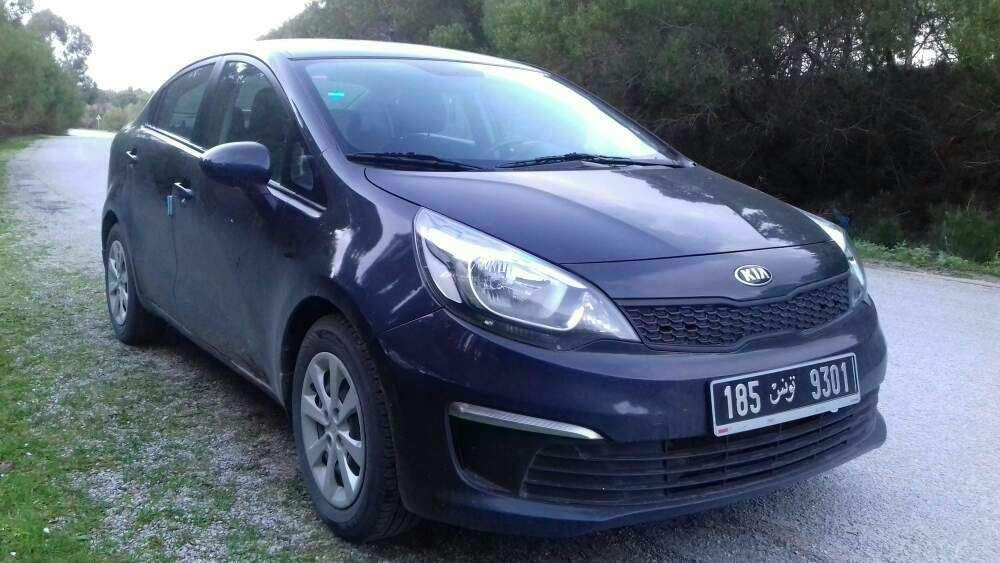LP: (705, 354, 862, 428)
